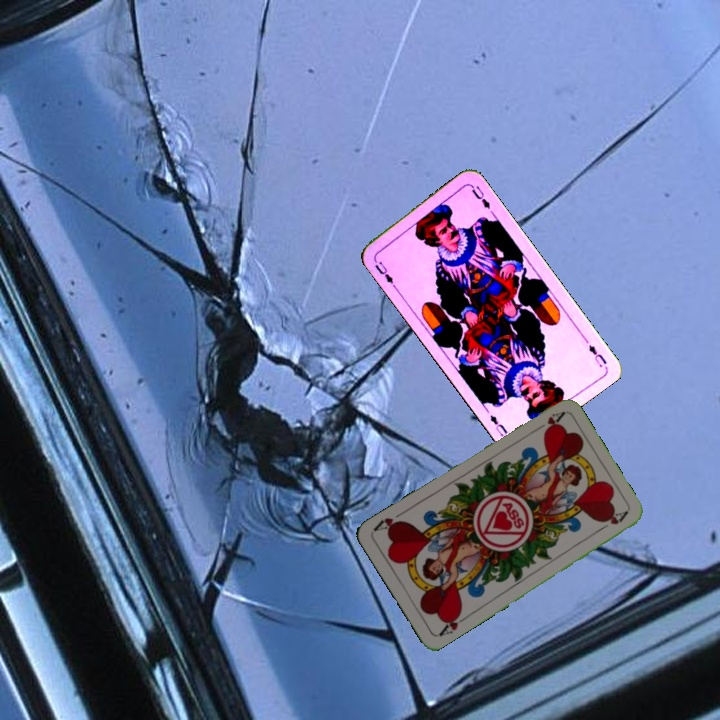EU: (370, 254, 398, 290), (585, 341, 609, 370)
HA: (435, 608, 471, 639), (529, 408, 567, 436)
